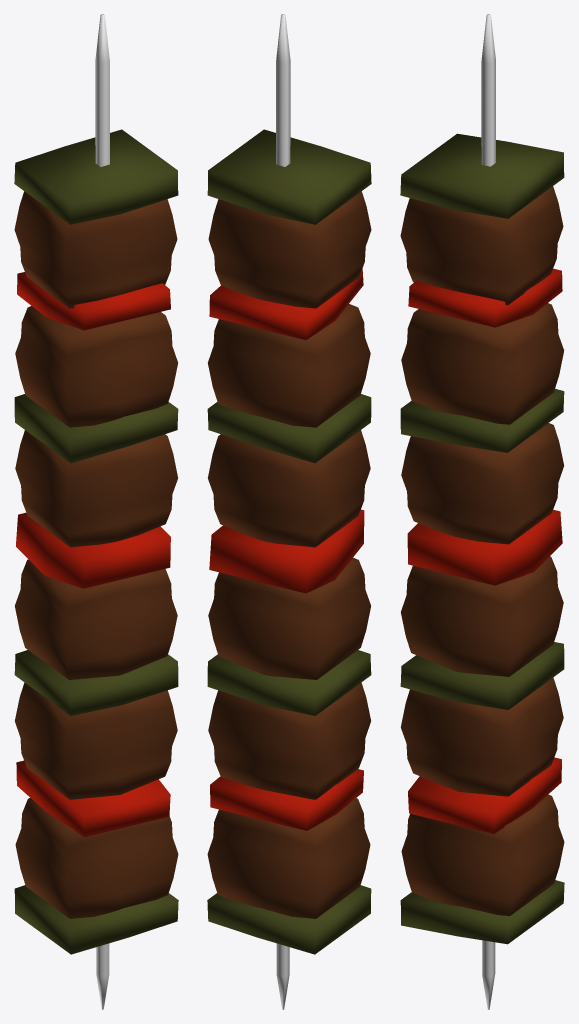
Rendered from Gesier.fbx.
3 renders of one model, left to right at view 1: azimuth 30°, elevation 25°; view 2: azimuth 150°, elevation 25°; view 3: azimuth 330°, elevation 25°, orthographic.
Visible parts, largest first — view 1: Brochette; view 2: Brochette; view 3: Brochette.
Part boxes in pixels (x1,y1,x2,y2): Brochette: (14, 14, 178, 1009); Brochette: (207, 14, 371, 1009); Brochette: (400, 14, 564, 1009).
Bounding box in the file's own units: 50.83 × 426 × 49.76.
